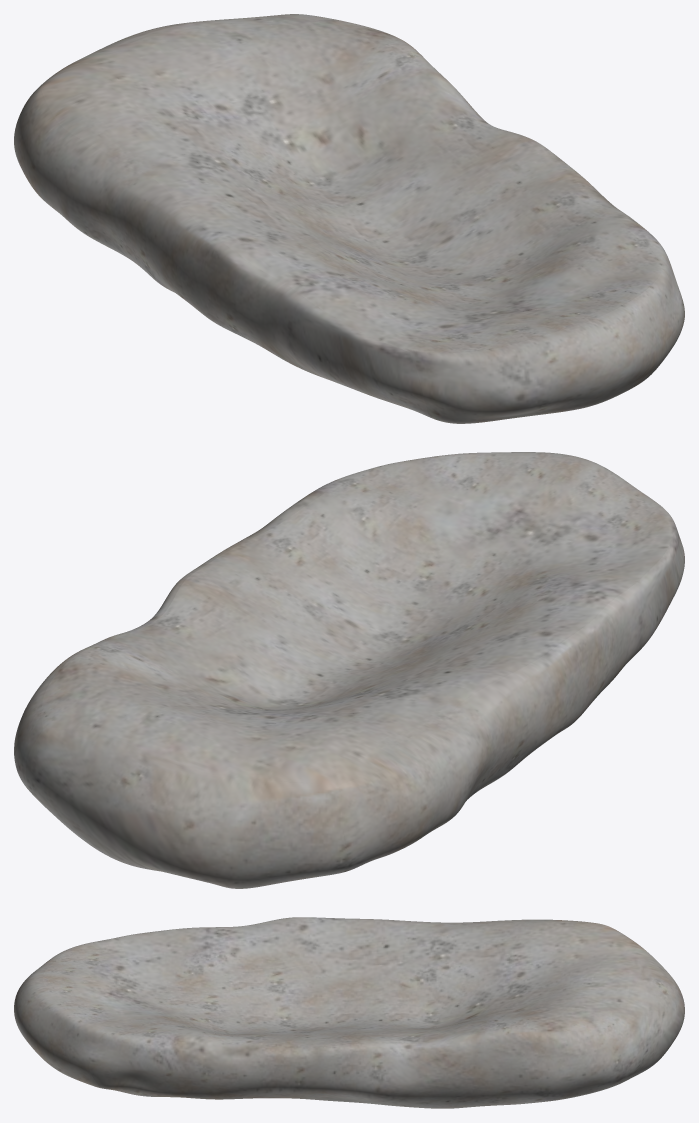
File: urushyo_final.fbx
The picture shows the model from 3 angles, top to bottom: view 1: azimuth 30°, elevation 25°; view 2: azimuth 150°, elevation 25°; view 3: azimuth 270°, elevation 25°; orthographic projection. The views are drawn at different scales.
Visible parts, largest first — view 1: urushyo; view 2: urushyo; view 3: urushyo.
Part boxes in pixels (bbox=[...]): urushyo: bbox=[14, 14, 684, 423]; urushyo: bbox=[14, 452, 684, 888]; urushyo: bbox=[14, 917, 684, 1108].
Size of the model in its own units: 238 by 83.7 by 485.
